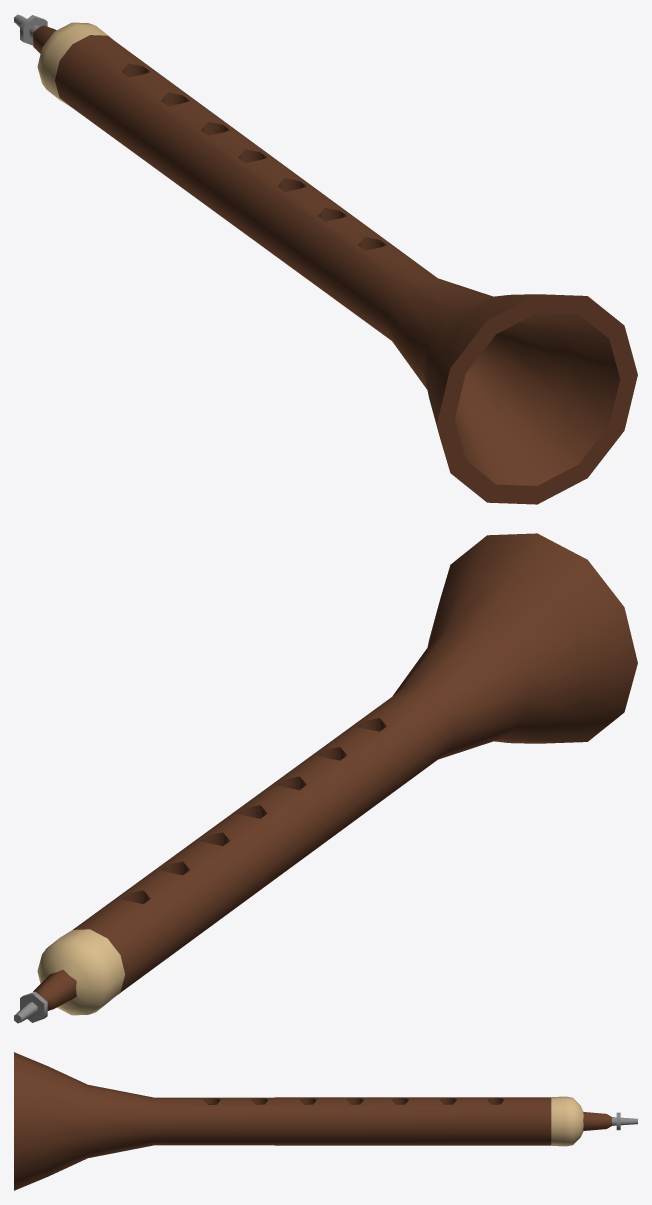
Rendered from Zurna_01.fbx.
The picture shows the model from 3 angles, top to bottom: view 1: azimuth 30°, elevation 25°; view 2: azimuth 150°, elevation 25°; view 3: azimuth 270°, elevation 25°; orthographic projection. The views are drawn at different scales.
Parts seen in each view (by area): view 1: Zurna_01; view 2: Zurna_01; view 3: Zurna_01.
Part boxes in pixels (x1,y1,x2,y2): Zurna_01: (14,14,637,504); Zurna_01: (14,533,637,1023); Zurna_01: (14,1052,637,1190).
Bounding box in the file's own units: 0.1524 × 0.1524 × 0.6823.
